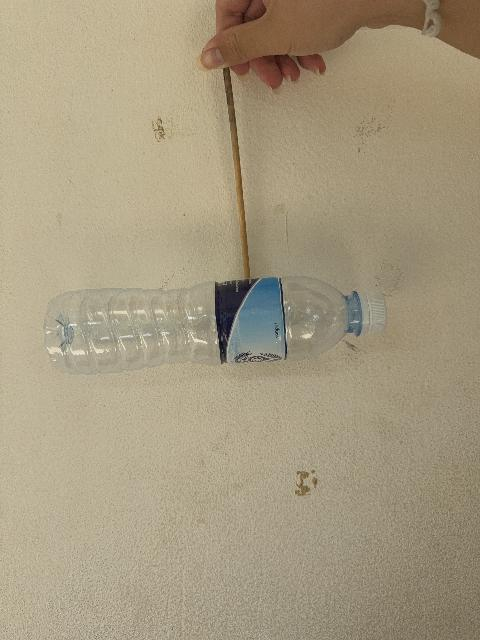bottle: (44, 277, 386, 373)
